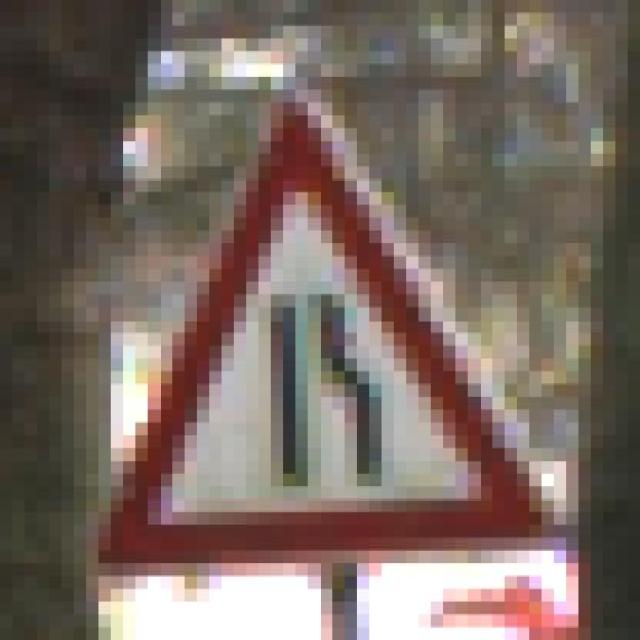-Road narrows on right: (86, 76, 579, 576)
